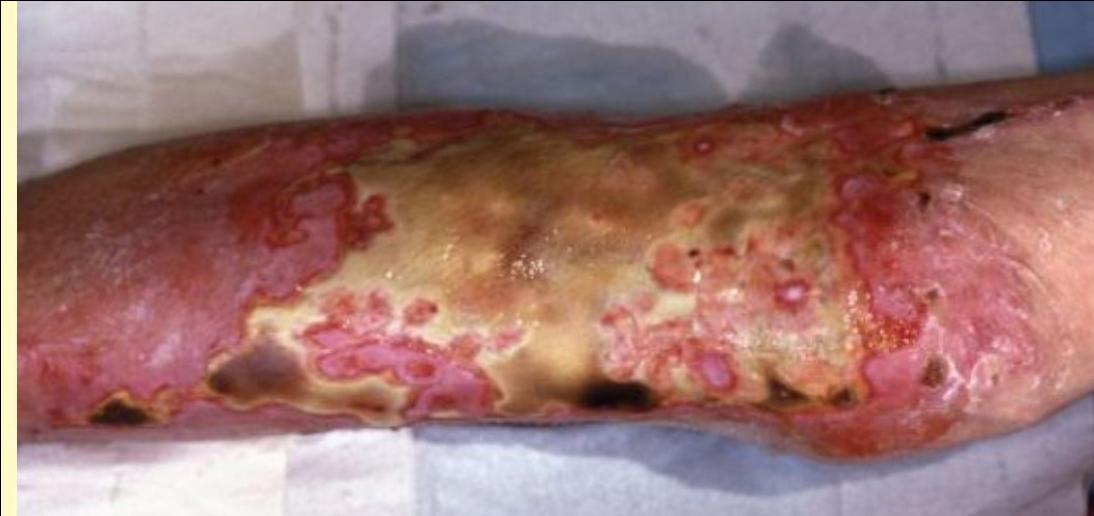NonPU: (114, 108, 1094, 408)
